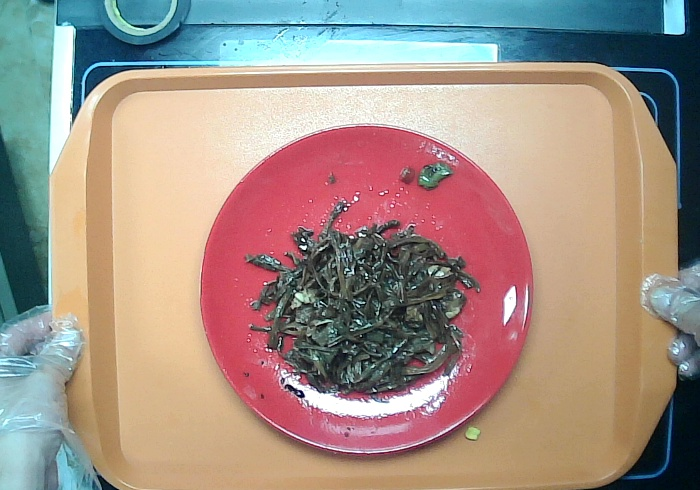HZYJPL-Hong_Se_Yuan_Pan: (194, 119, 542, 464)
